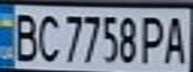5: (100, 11, 121, 64)
7: (78, 11, 103, 64), (60, 10, 84, 63)
8: (115, 12, 142, 64)
A: (160, 12, 193, 65)
B: (6, 9, 42, 63)
C: (33, 10, 63, 63)
P: (139, 12, 169, 65)
